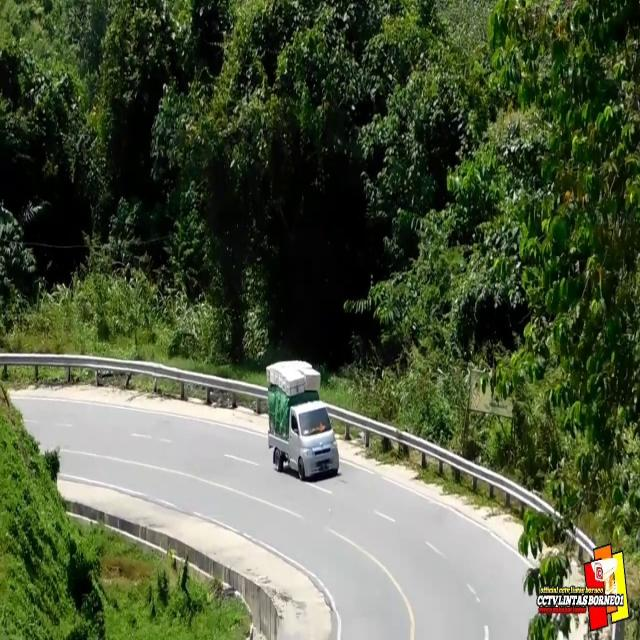Golongan IVB: (267, 396, 339, 482)
